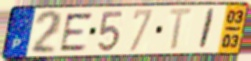2: (30, 9, 64, 56)
5: (95, 9, 127, 53)
7: (128, 8, 157, 54)
E: (58, 11, 94, 53)
I: (197, 7, 218, 51)
T: (167, 7, 196, 53)
